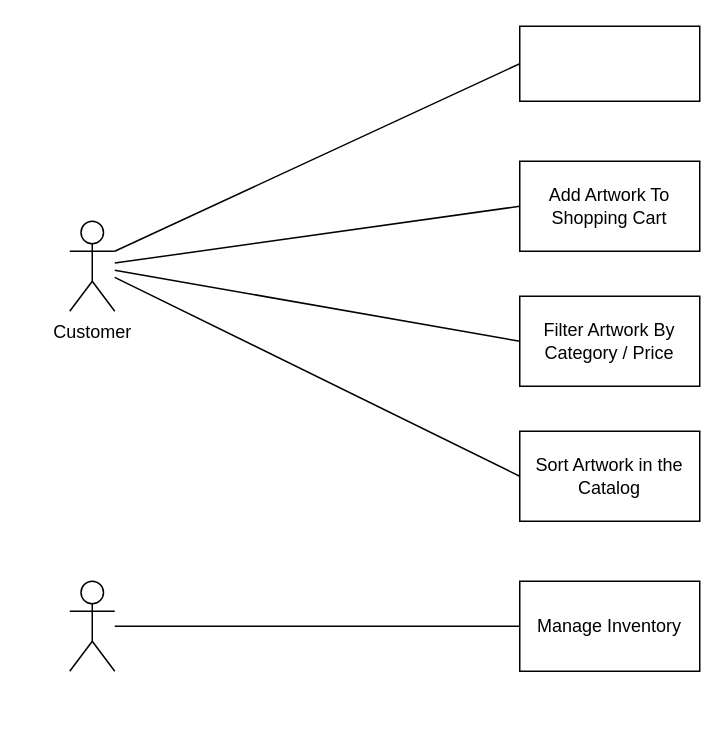
The diagram is 726 pixels wide and 729 high, and some of its shapes have lost their labels. Each missing label, with the centre of its shape:
Choose Delivery Method: the point at 609,63
Service Provider: the point at 91,625
